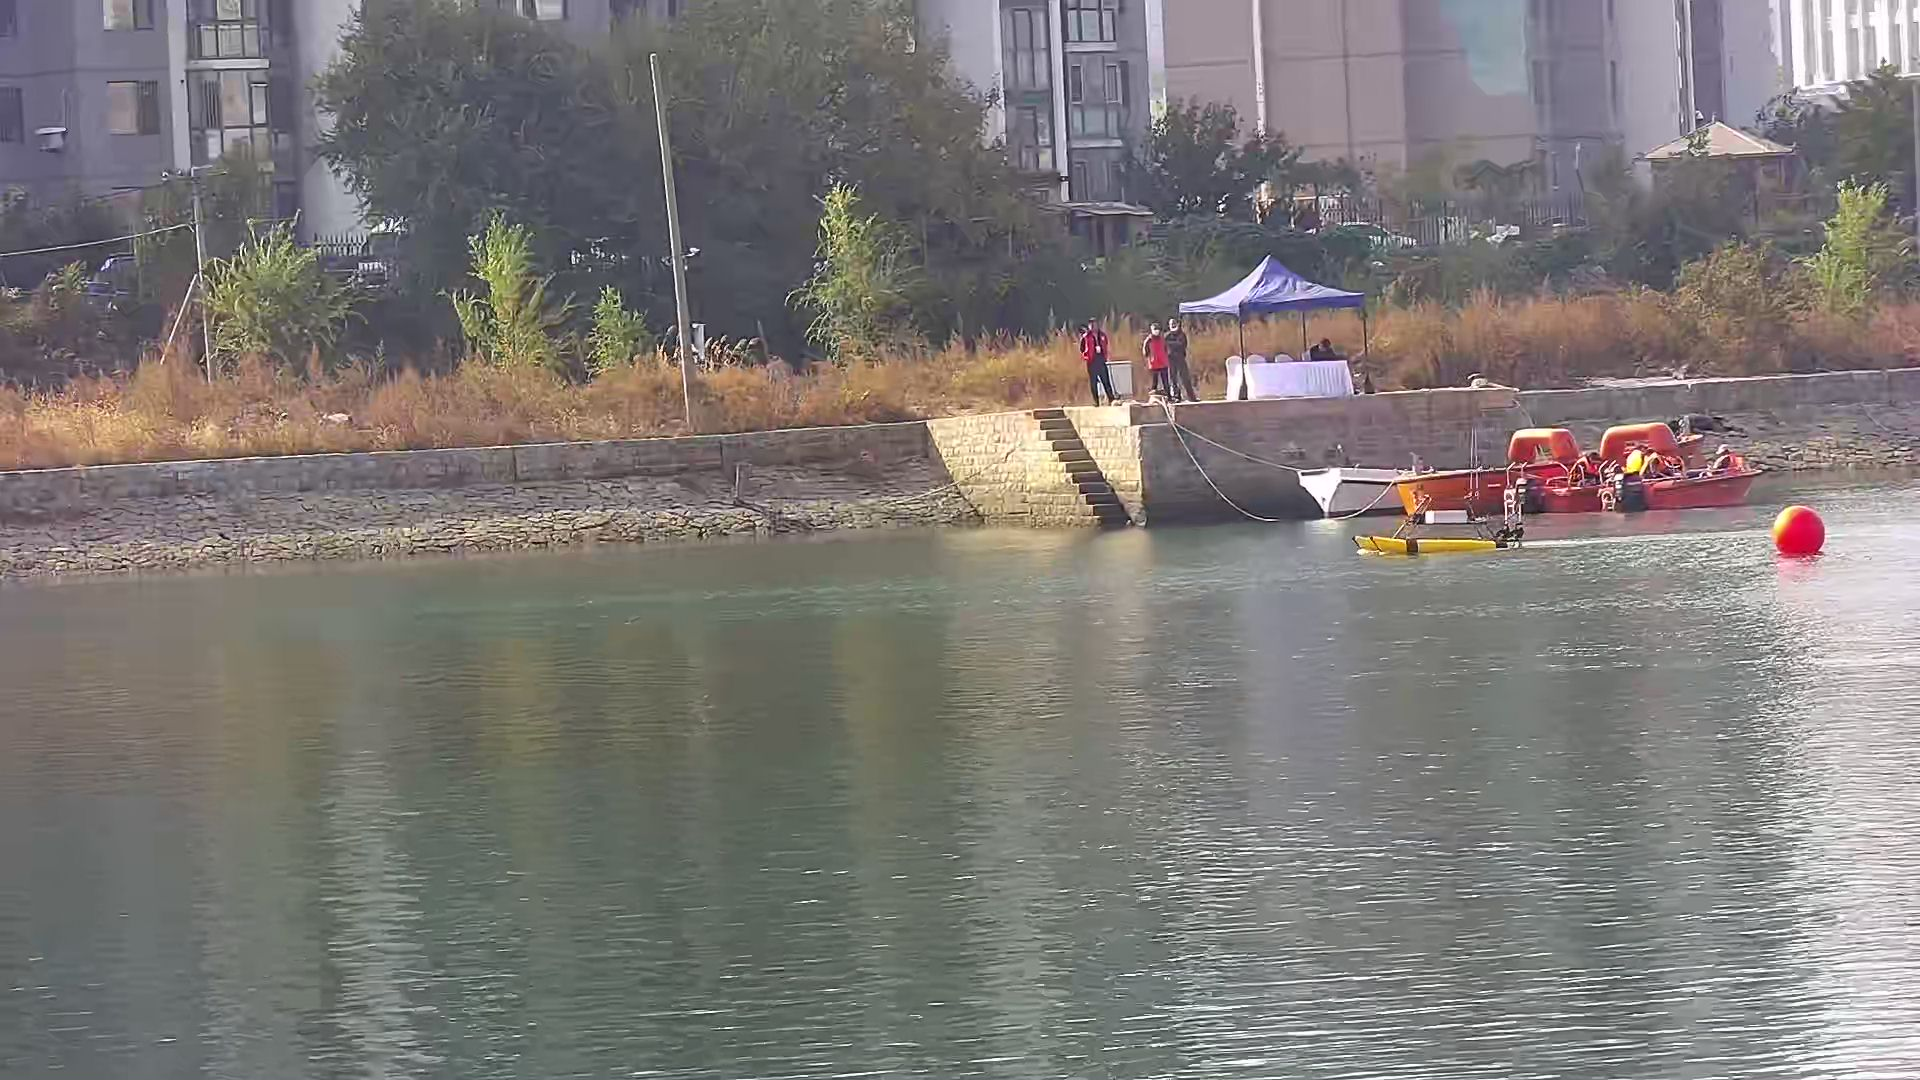ball: (1771, 506, 1826, 559)
boat: (1520, 439, 1756, 516), (1400, 429, 1601, 506), (1294, 459, 1482, 513), (1346, 516, 1534, 558)
